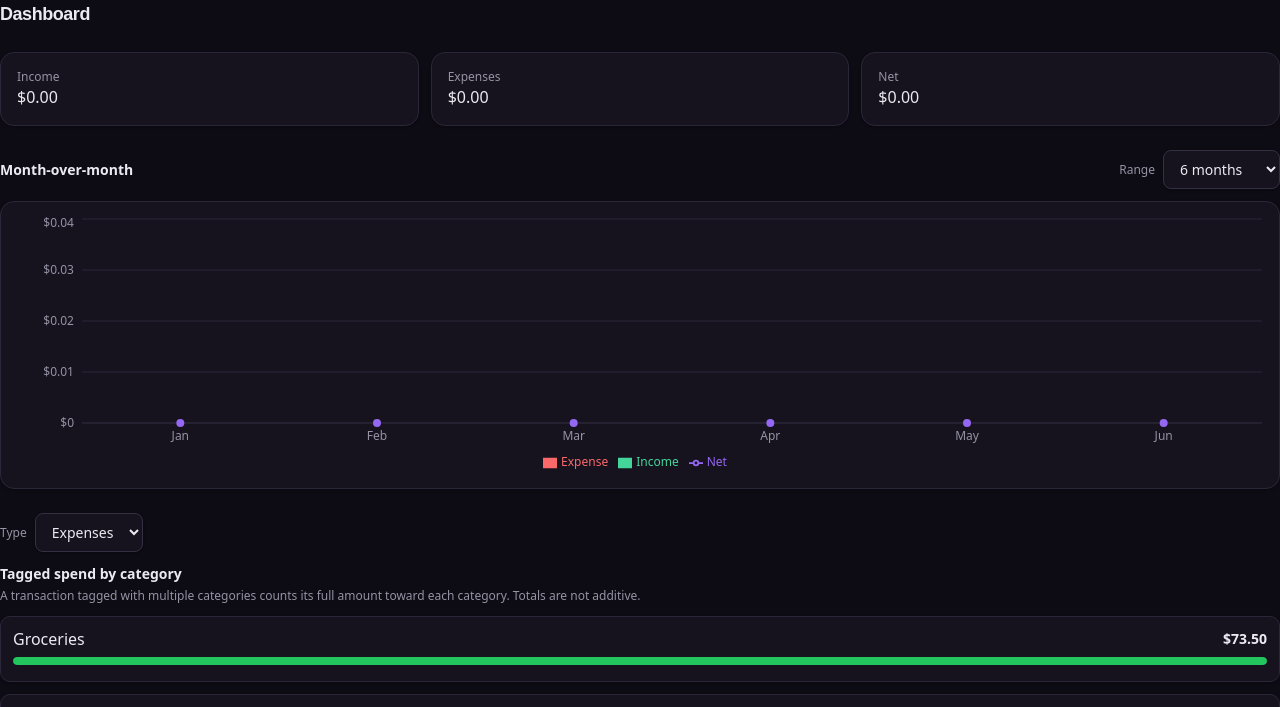
Test: Dashboard category analytics (RPT-5) › re-queries category analytics for the selected type
Check: the text "$73.50" is shown, box top-left (1223, 629), bottom-right (1267, 649)
Select "Income" in the dropdown labelled "Type" at {"x": 89, "y": 532}, box top-left (35, 513), bottom-right (143, 552)
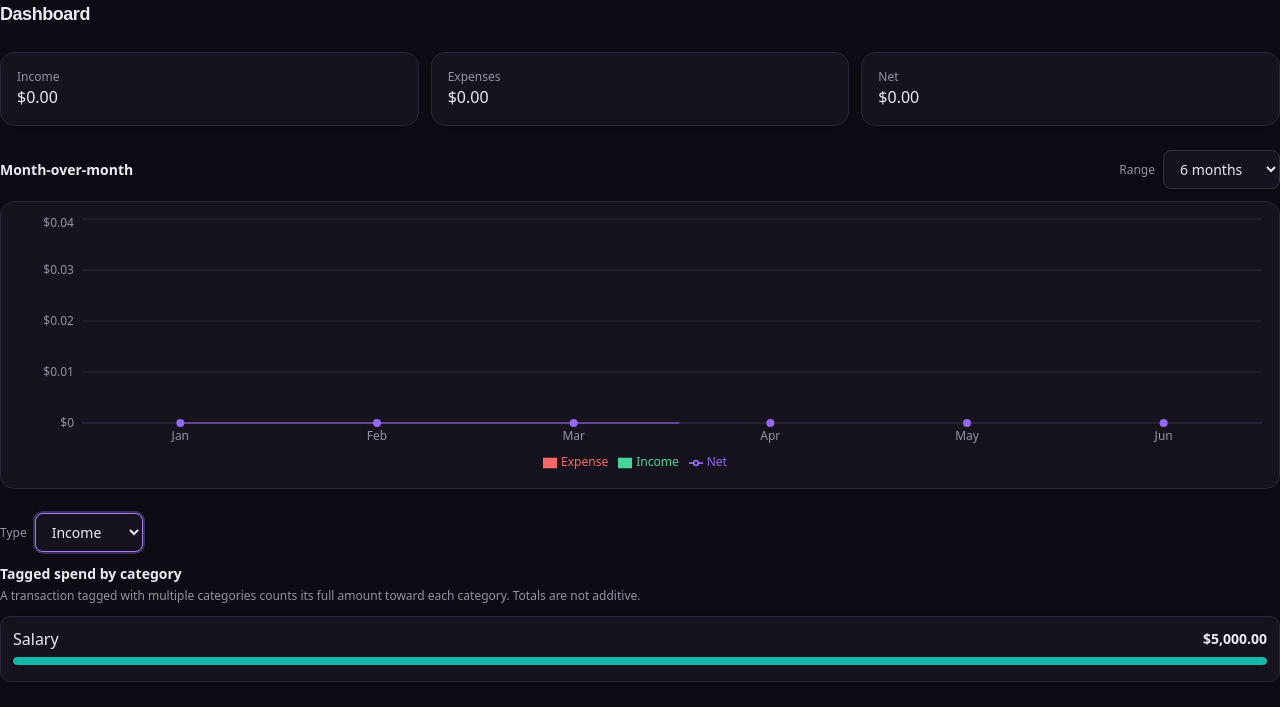
Check: the text "$5,000.00" is shown, box top-left (1203, 629), bottom-right (1267, 649)
Check: the text "$73.50" is gone
